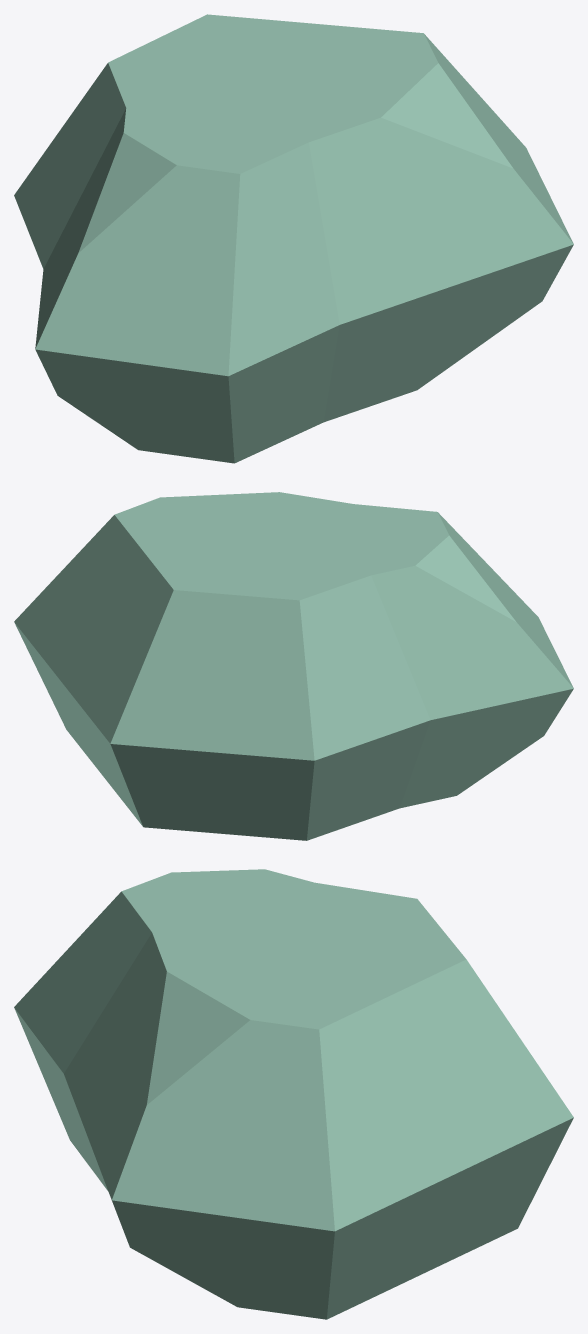
The model's file is naturePack_007.fbx.
3 views of the same model, one above another, from view 1: azimuth 30°, elevation 25°; view 2: azimuth 150°, elevation 25°; view 3: azimuth 270°, elevation 25° (orthographic). The views are drawn at different scales.
Parts seen in each view (by area): view 1: naturePack_007; view 2: naturePack_007; view 3: naturePack_007.
Boxes of the visible parts, bbox=[...] form: naturePack_007: bbox=[14, 14, 573, 463]; naturePack_007: bbox=[14, 492, 573, 840]; naturePack_007: bbox=[14, 869, 573, 1319].
Size of the model in its own units: 304 by 133 by 255.
